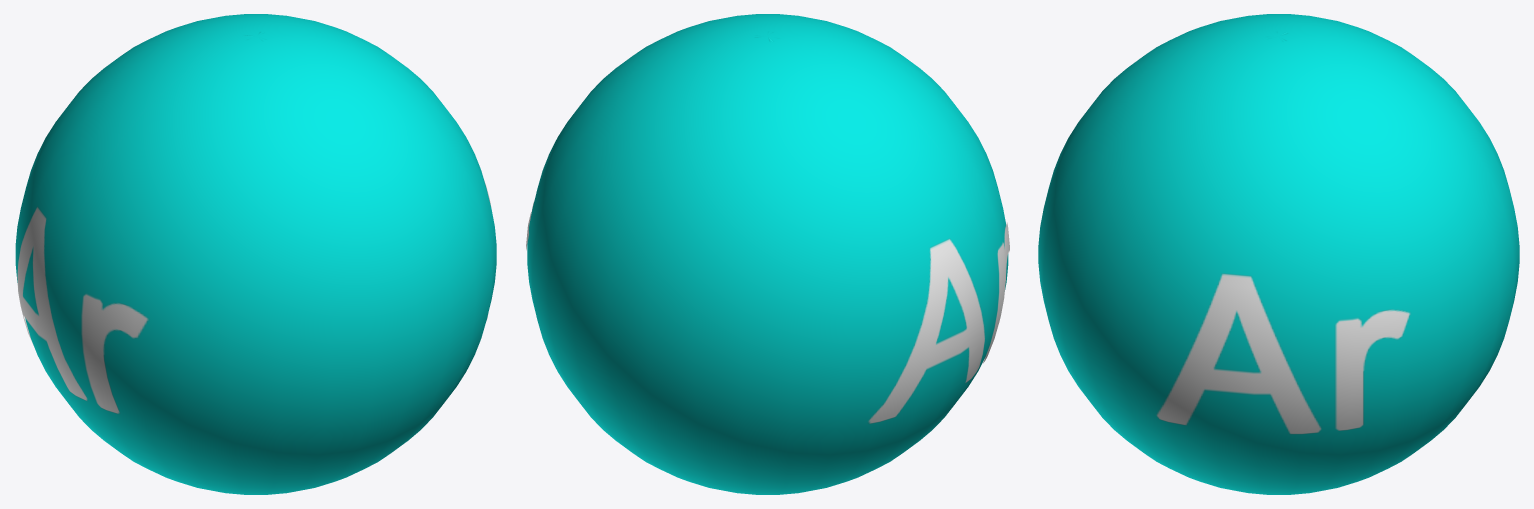
File: argonio.glb
The picture shows the model from 3 angles, left to right: view 1: azimuth 30°, elevation 25°; view 2: azimuth 150°, elevation 25°; view 3: azimuth 270°, elevation 25°; orthographic projection.
Visible parts, largest first — view 1: Mol molde 7; view 2: Mol molde 7; view 3: Mol molde 7.
Boxes of the visible parts, bbox=[...] form: Mol molde 7: bbox=[15, 14, 496, 494]; Mol molde 7: bbox=[526, 14, 1009, 494]; Mol molde 7: bbox=[1038, 14, 1519, 494].
Bounding box in the file's own units: 0.3054 × 0.3054 × 0.3051.
Materials: 2 (2 with a texture image).
